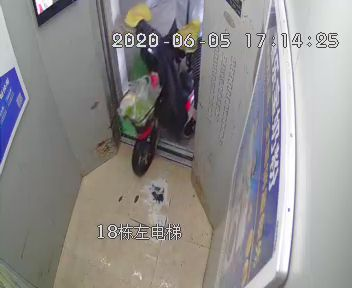Electric-bicycle: (114, 19, 201, 174)
